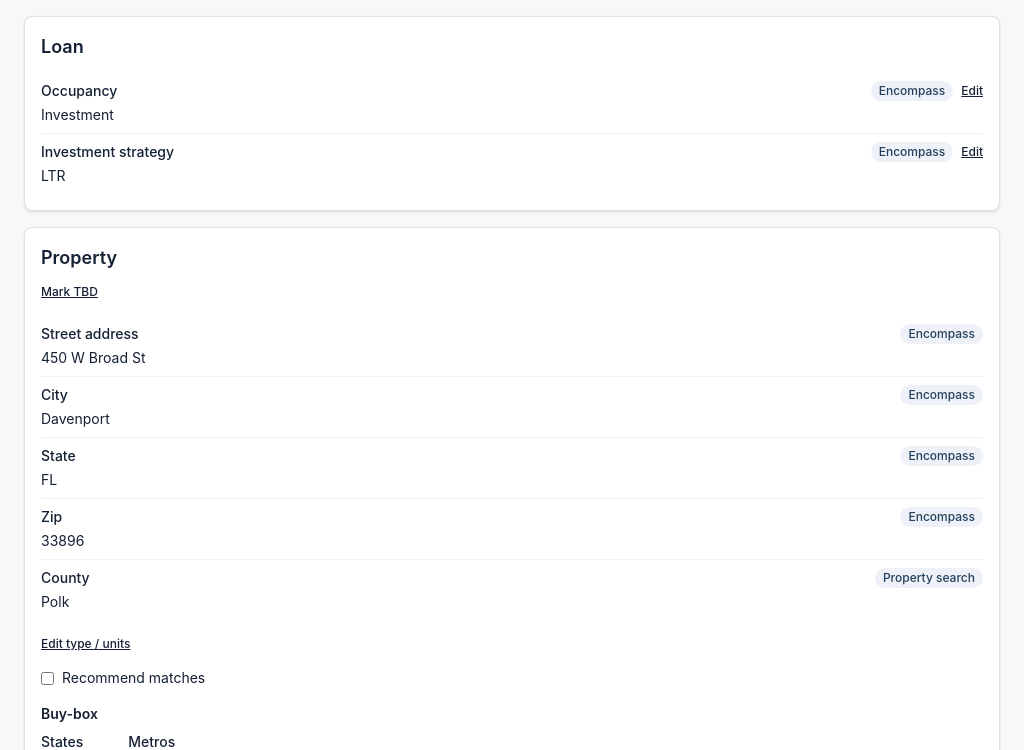
Test: PropertyTab (docs/backlog/CQ-028-verification-tabs/spec.md Tab 5) › renders occupancy on the Property tab's Loan card, editable via the universal field pattern
Expected: the text "Occupancy" is shown, [41,81,117,101]
Expected: the text "Investment" is shown, [41,106,114,123]
Click the button "Edit" in the row of "Occupancy": [972, 91] box [961,83,983,99]
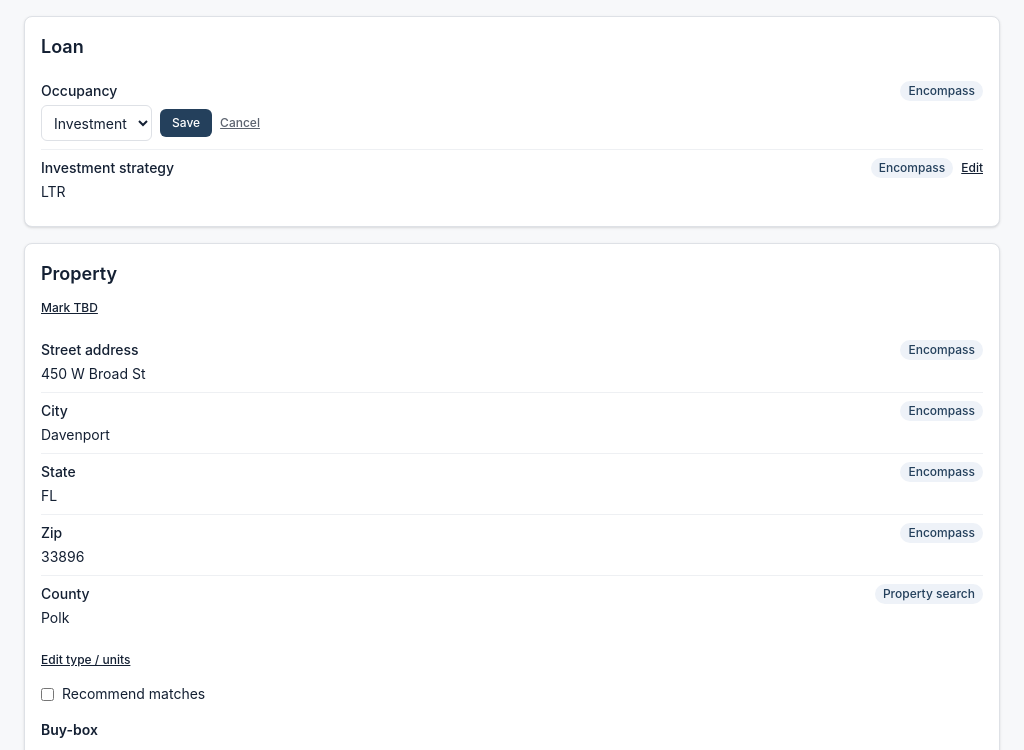
Now the dropdown named "Occupancy" is shown, box [41,105,152,141]
